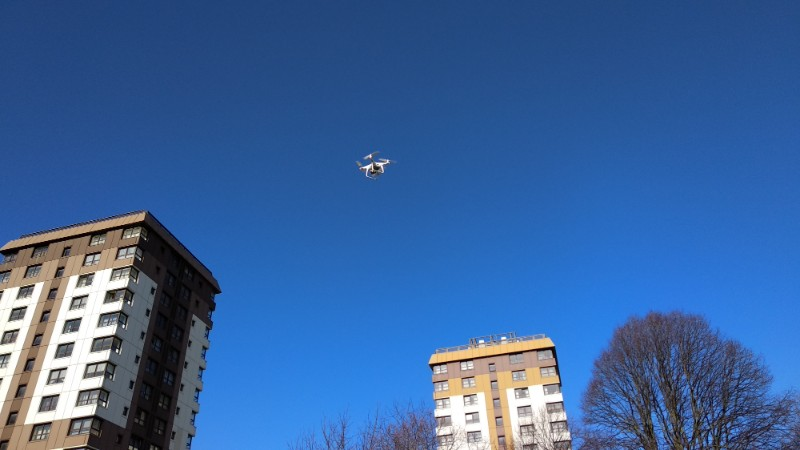drone: (354, 149, 399, 181)
